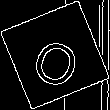O_NE: (25, 23, 85, 87)
